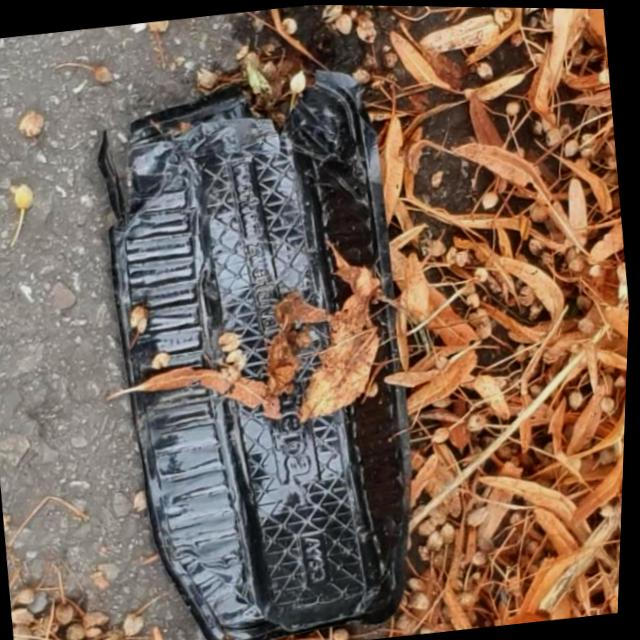Plastic: (76, 58, 456, 640)
